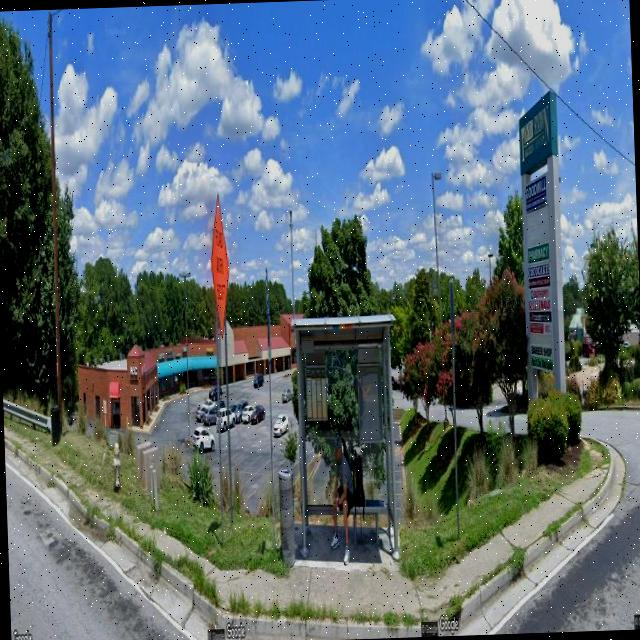seating: (335, 495, 385, 546)
shelter: (289, 311, 404, 565)
trash_can: (276, 467, 296, 568)
